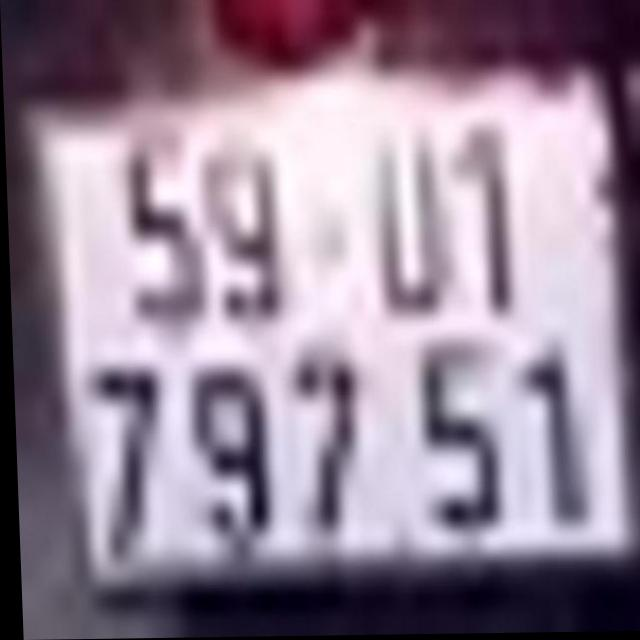1: (452, 120, 520, 320), (521, 335, 580, 536)
5: (401, 330, 507, 538), (123, 130, 213, 334)
7: (81, 361, 173, 574), (276, 343, 365, 557)
9: (179, 357, 272, 558), (208, 135, 283, 335)
U: (360, 118, 449, 315)
